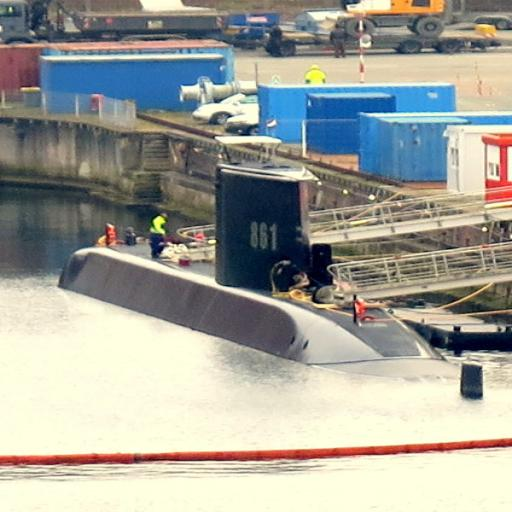submarine: (59, 164, 488, 398)
